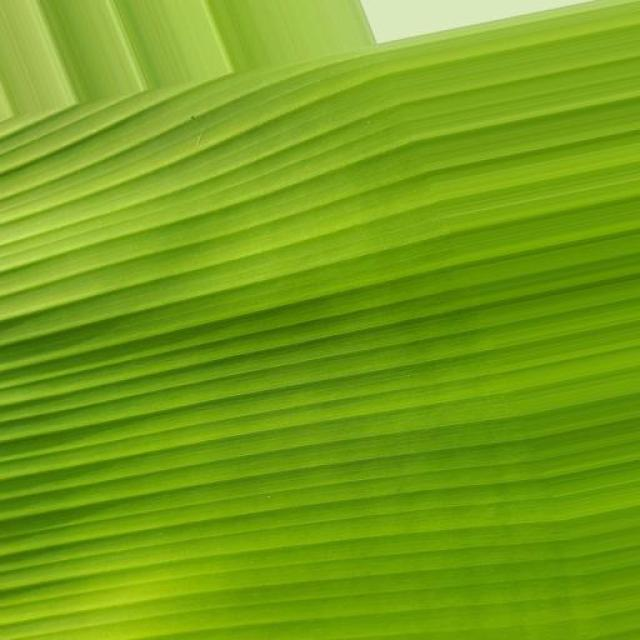Black_leaf_spot: (3, 58, 615, 595)
